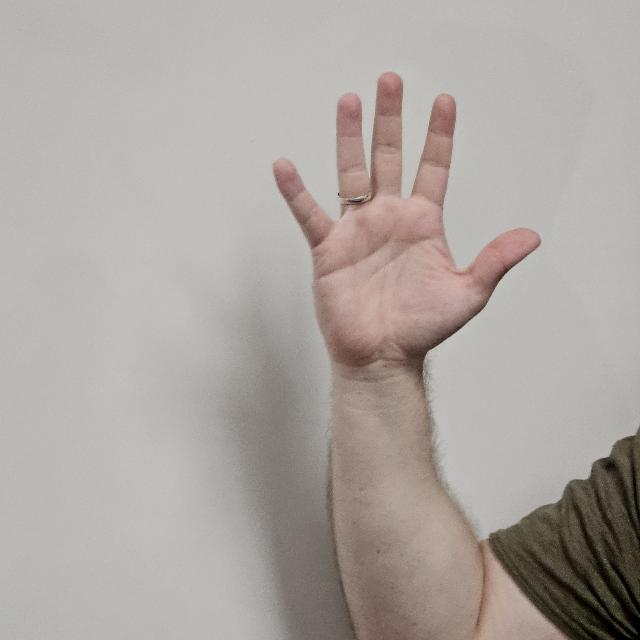X: (268, 71, 540, 426)
